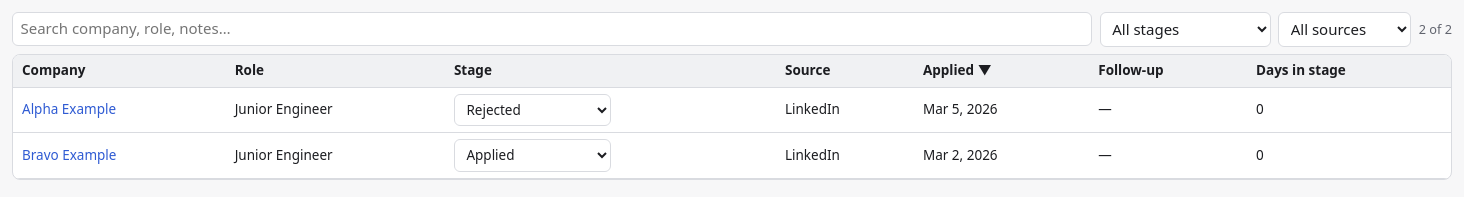
Test: ApplicationTable › filters to active stages
The width and height of the screenshot is (1464, 197).
Select "Active (not closed)" in the dropdown named "Filter by stage" at (1185, 29), box [1100, 12, 1271, 46]
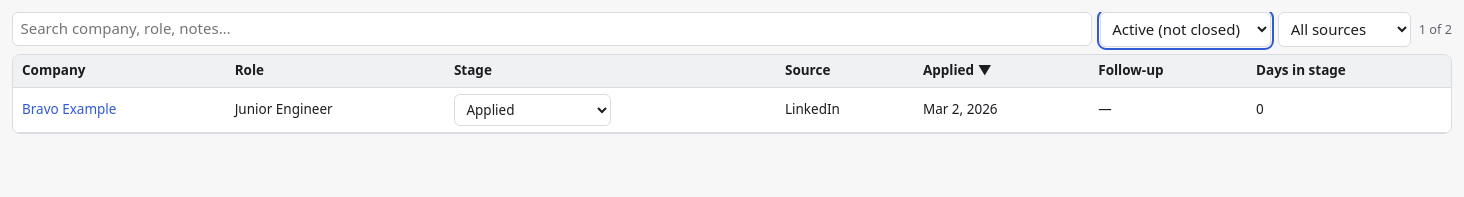
Expected: the text "1 of 2" is shown, [1419, 20, 1452, 38]
